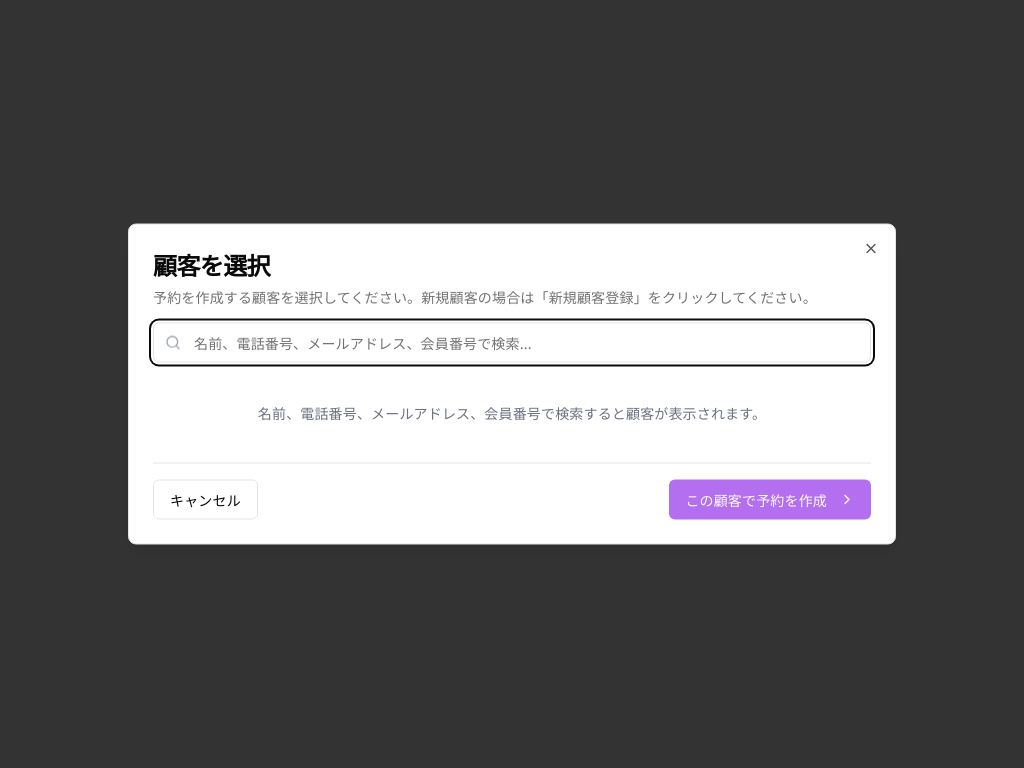
Scenario: CustomerSelectionDialog › discards the previous search results after the operator changes stores
Later steps or results of the test are not shown.
In the field with placeholder "名前、電話番号、メールアドレス、会員番号で検索...": (512, 342) x1=153 y1=322 x2=871 y2=362, type "旧実名顧客"
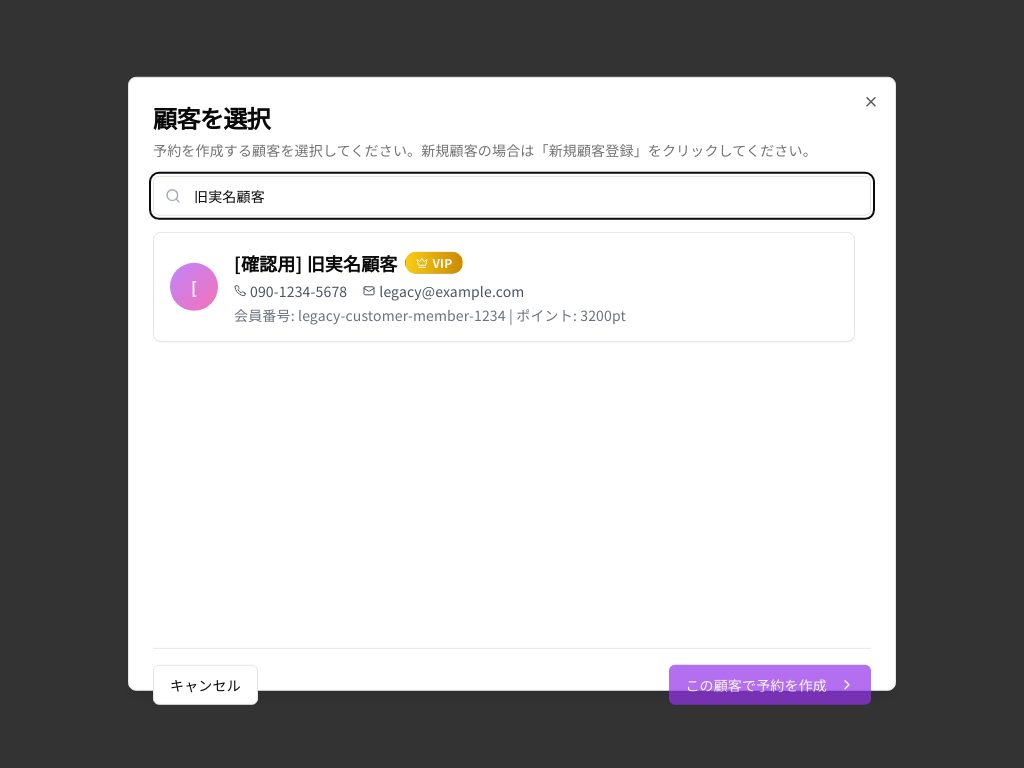
Check: the heading "[確認用] 旧実名顧客" is shown, box x1=234 y1=249 x2=398 y2=277
